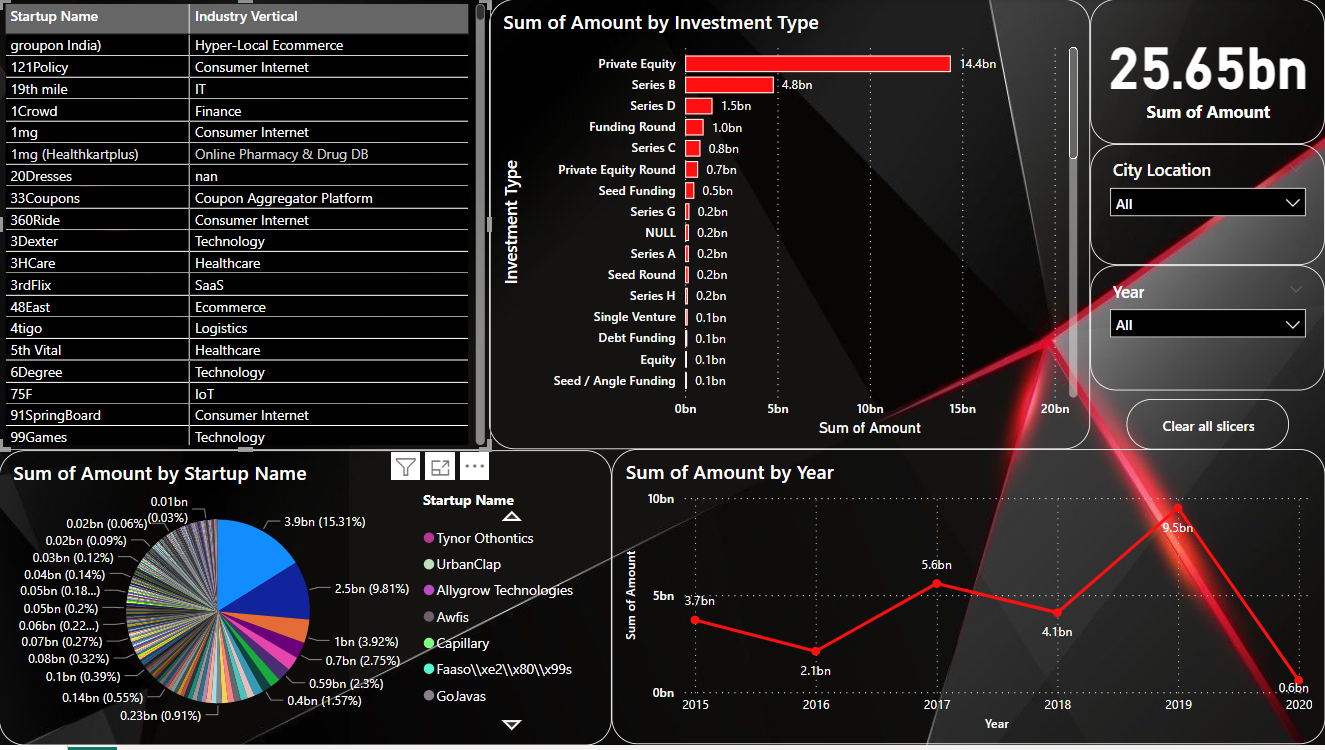

The page's visual inventory and layout, read from the dashboard file:
{"tool":"powerbi","page":{"name":"Page 1","canvas":[1280,720],"ordinal":0},"visuals":[{"type":"tableEx","fields":{"Values":["Indian_startup_funding_2023.Startup Name","Indian_startup_funding_2023.Industry Vertical"]},"box":[0,0,473.8,435],"z":0},{"type":"barChart","fields":{"Y":["Sum(Indian_startup_funding_2023.Amount in USD.2)"],"Category":["Indian_startup_funding_2023.Investment Type"]},"box":[473.2,0,580.1,434.7],"z":1000},{"type":"pieChart","fields":{"Category":["Indian_startup_funding_2023.Startup Name"],"Y":["Sum(Indian_startup_funding_2023.Amount)"]},"box":[0,434.7,591.5,285.1],"z":2000},{"type":"card","fields":{"Values":["Sum(Indian_startup_funding_2023.Amount)"]},"box":[1053.4,0,226.6,139.7],"z":3000},{"type":"slicer","fields":{"Values":["Indian_startup_funding_2023.Date .Variation.Date Hierarchy.Year"]},"box":[1053.4,256.6,226.6,121.2],"z":4000},{"type":"slicer","fields":{"Values":["Indian_startup_funding_2023.City  Location.1"]},"box":[1053.4,139.7,226.6,116.9],"z":5000},{"type":"lineChart","fields":{"Category":["Indian_startup_funding_2023.Date .Variation.Date Hierarchy.Year"],"Y":["Sum(Indian_startup_funding_2023.Amount)"]},"box":[591.5,434.7,688.5,285.1],"z":6000},{"type":"actionButton","box":[1080.4,386.3,156.8,48.5],"z":7000}]}

Visuals, with their boxes in screenshot pixels (x1, y1, x2, y2), scaled from the page's 1280x720 canvas onto the 1325x750 screenshot:
tableEx - Indian_startup_funding_2023.Startup Name x Indian_startup_funding_2023.Industry Vertical: (left=0, top=0, right=490, bottom=453)
barChart - Sum(Indian_startup_funding_2023.Amount in USD.2) x Indian_startup_funding_2023.Investment Type: (left=490, top=0, right=1090, bottom=453)
pieChart - Indian_startup_funding_2023.Startup Name x Sum(Indian_startup_funding_2023.Amount): (left=0, top=453, right=612, bottom=749)
card - Sum(Indian_startup_funding_2023.Amount): (left=1090, top=0, right=1324, bottom=146)
slicer - Indian_startup_funding_2023.Date .Variation.Date Hierarchy.Year: (left=1090, top=267, right=1324, bottom=394)
slicer - Indian_startup_funding_2023.City  Location.1: (left=1090, top=146, right=1324, bottom=267)
lineChart - Indian_startup_funding_2023.Date .Variation.Date Hierarchy.Year x Sum(Indian_startup_funding_2023.Amount): (left=612, top=453, right=1324, bottom=749)
actionButton: (left=1118, top=402, right=1281, bottom=453)
